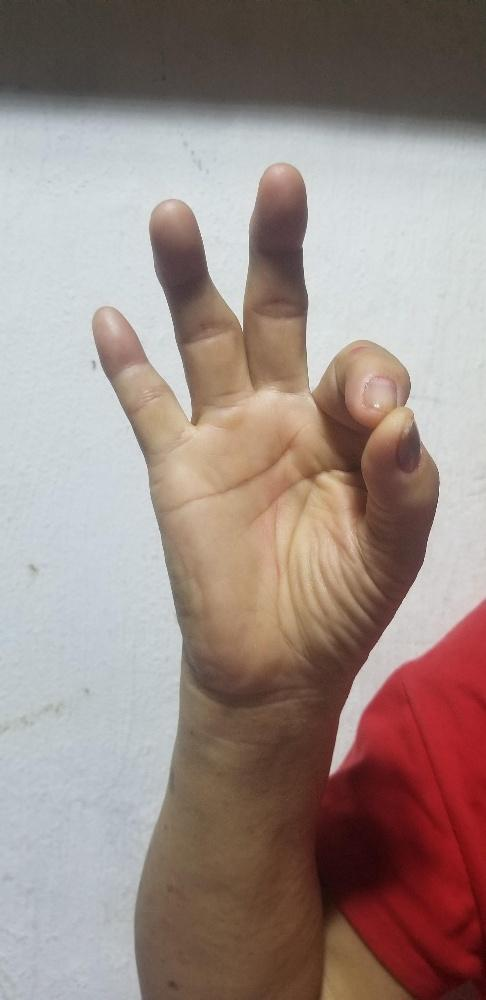e: (92, 159, 438, 690)
